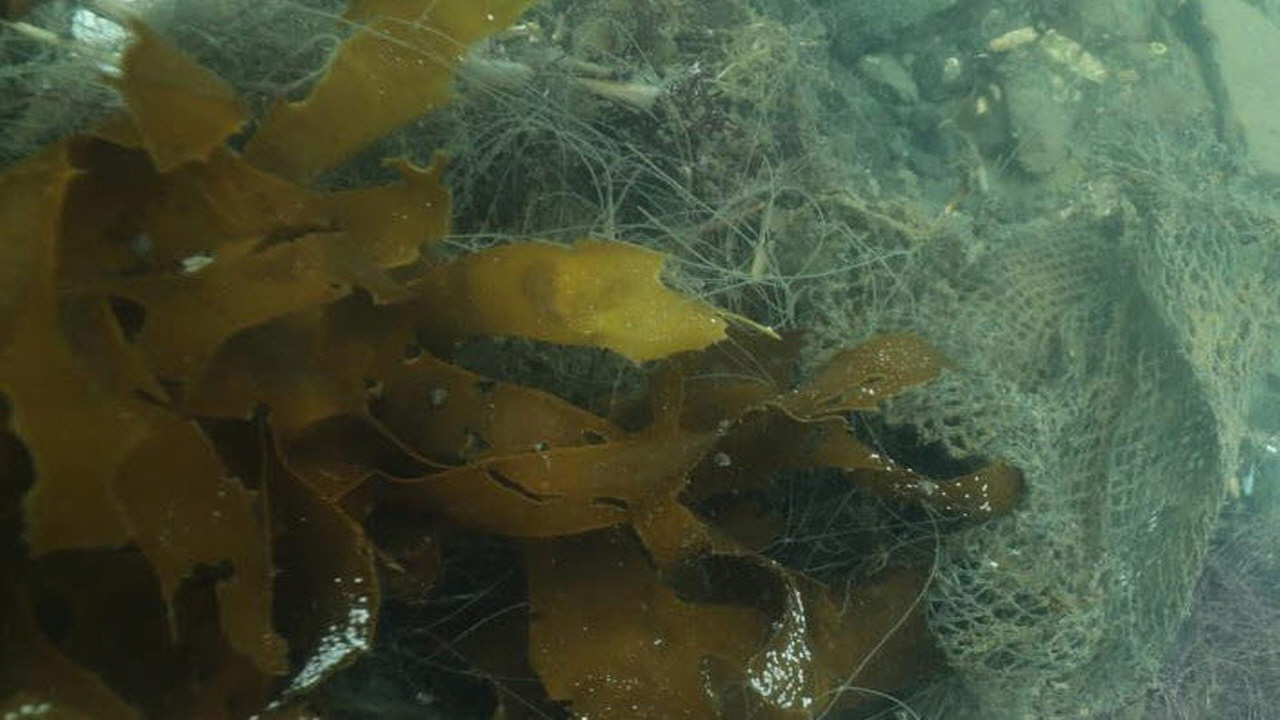fish net: (878, 153, 1280, 720)
